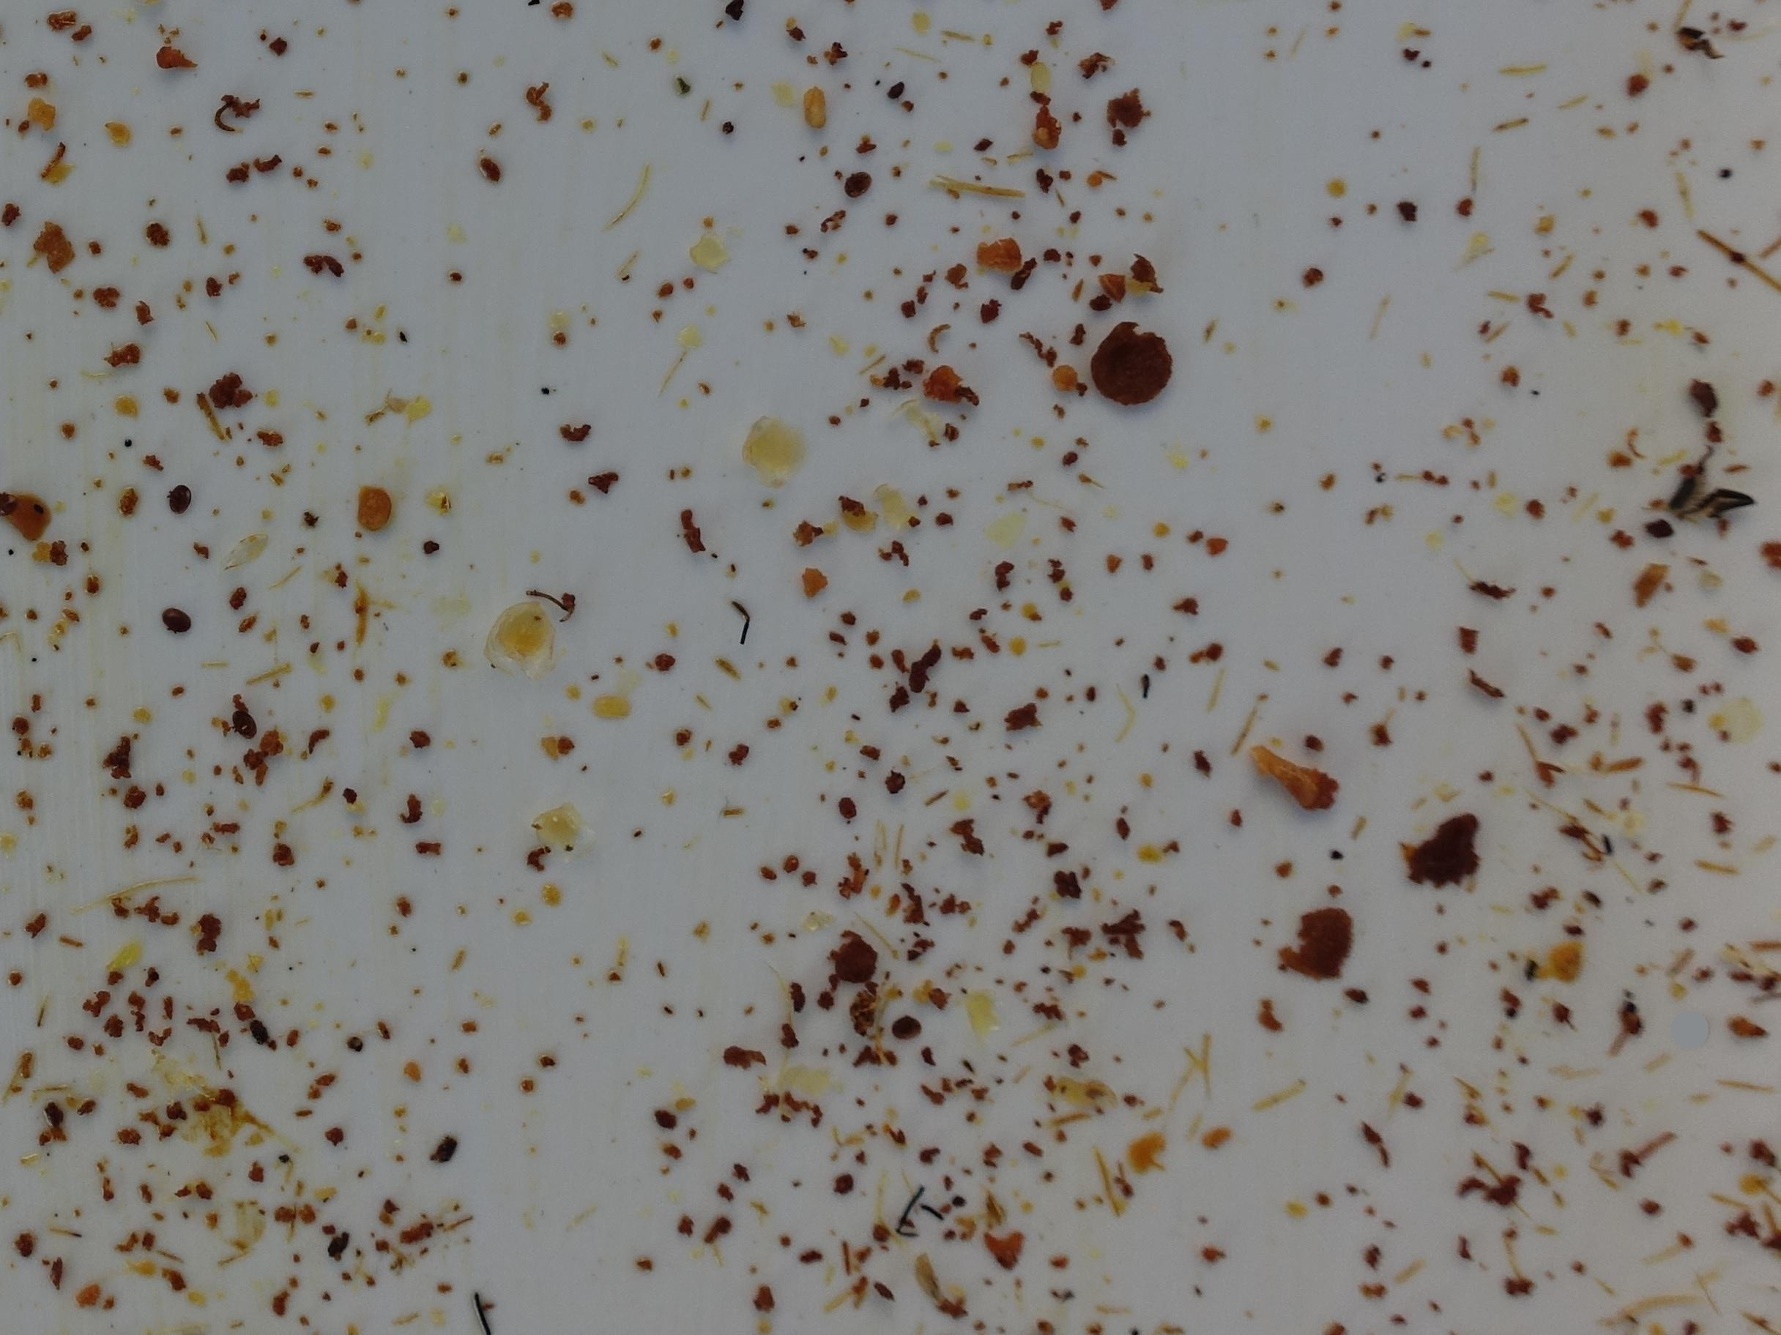Varroa: (846, 174, 869, 196), (164, 604, 187, 627), (895, 1017, 917, 1039), (236, 705, 257, 729), (172, 485, 192, 505)
